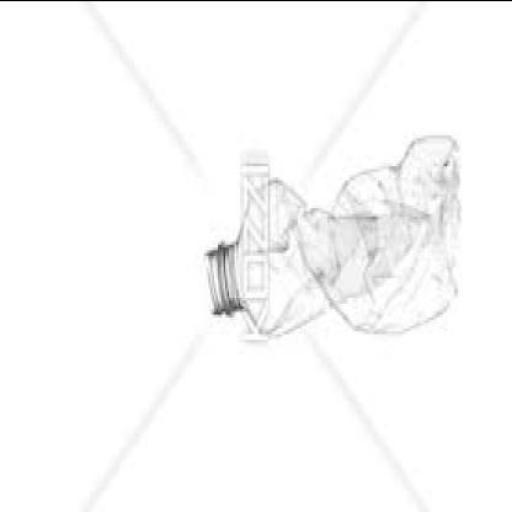plastic: (203, 137, 464, 342)
